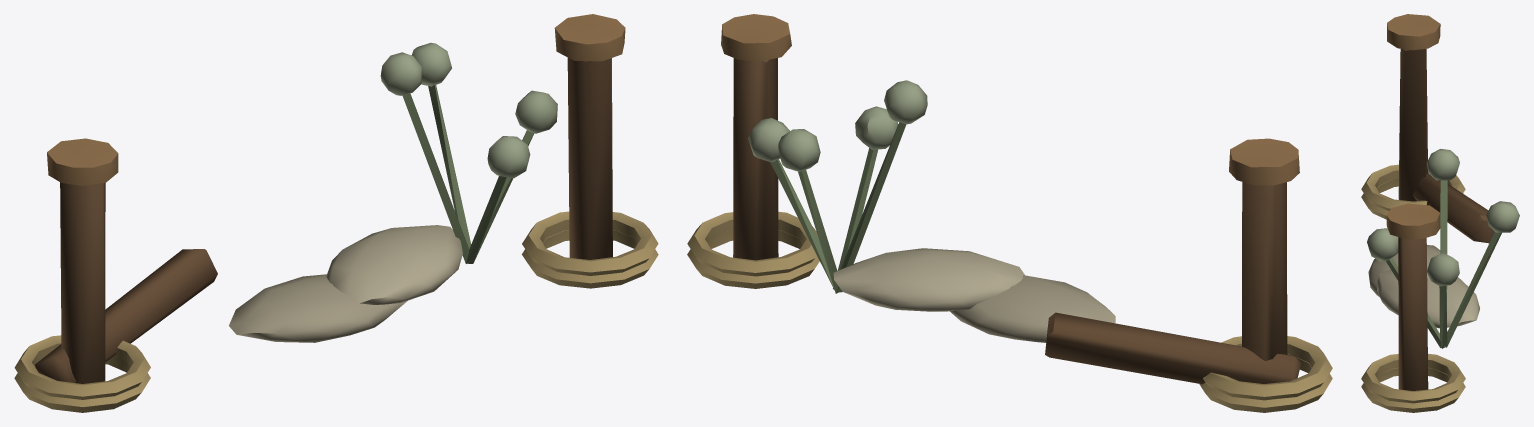
Rendered from hammock_rig_c_lod1.glb.
3 views of the same model, side by side, from view 1: azimuth 30°, elevation 25°; view 2: azimuth 150°, elevation 25°; view 3: azimuth 270°, elevation 25° (orthographic). The views are drawn at different scales.
Parts seen in each view (by area): view 1: Surface.001; view 2: Surface.001; view 3: Surface.001.
Boxes of the visible parts, x1,y1,x2,y2 form: Surface.001: (14, 14, 658, 412); Surface.001: (687, 14, 1332, 412); Surface.001: (1361, 14, 1519, 412).
Bounding box in the file's own units: 3.7 × 1.36 × 1.06.
